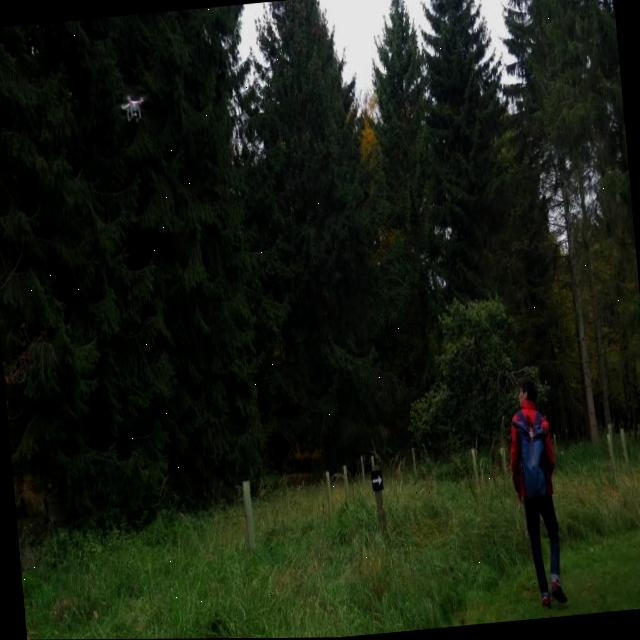drone: (118, 87, 148, 127)
